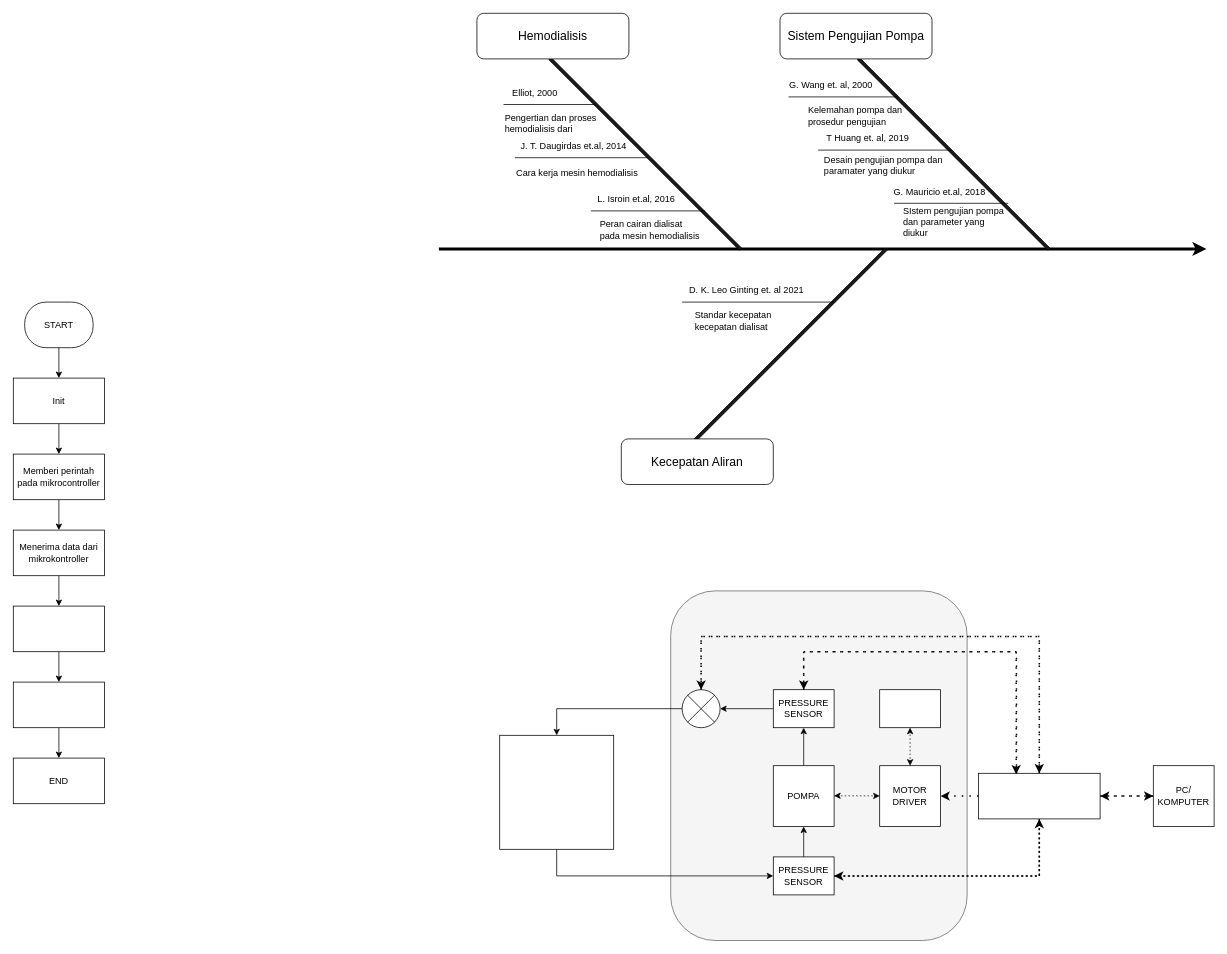
Image size: 1227x954. Some labels were removed from this diagram. The shapes that lost their labels are listed below. From the top down, each one's centre as x and y in pixels, then its label:
At point (58, 628): "Pemrosesan data".
At point (58, 704): "Menampilkan grafik".
At point (700, 708): "FLOW METER".
At point (909, 708): "POWER SUPPLY".
At point (556, 792): "TANK".
At point (1039, 796): "MIKROKONTROLLER".
